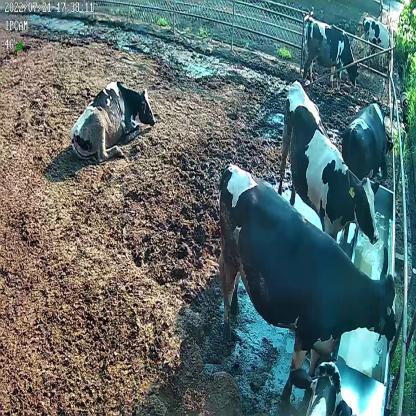cow: (217, 160, 398, 375), (278, 80, 382, 252), (70, 80, 154, 164), (299, 14, 359, 93), (341, 103, 394, 185)
